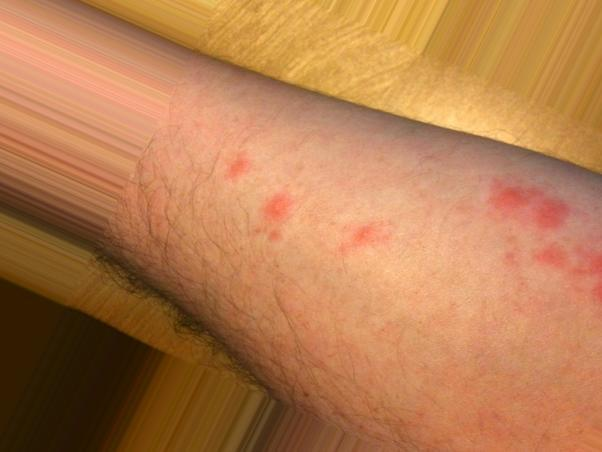Fleas: (485, 171, 571, 242), (340, 219, 382, 259), (261, 190, 293, 222), (223, 154, 252, 184), (264, 225, 285, 245)
